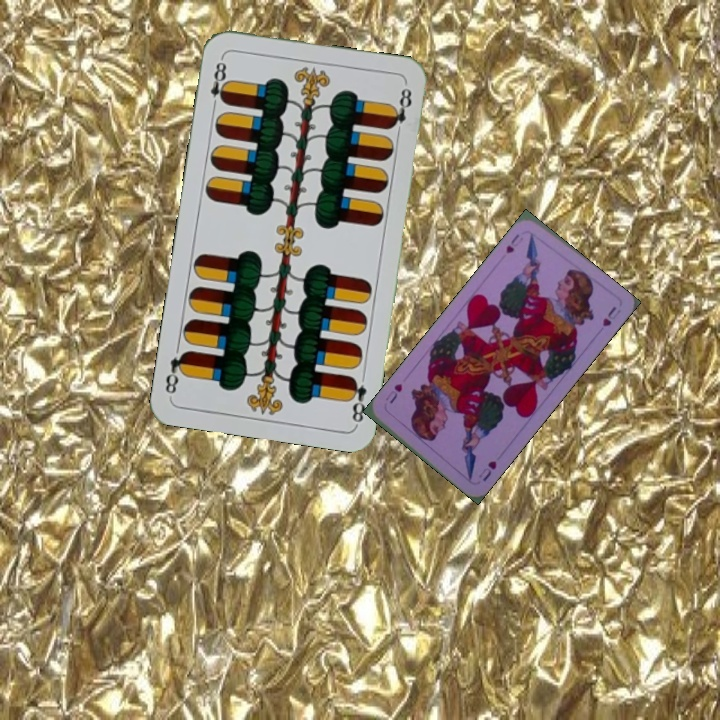E8: (206, 53, 232, 112), (344, 368, 369, 427)
HU: (474, 456, 499, 484), (502, 230, 522, 256)
